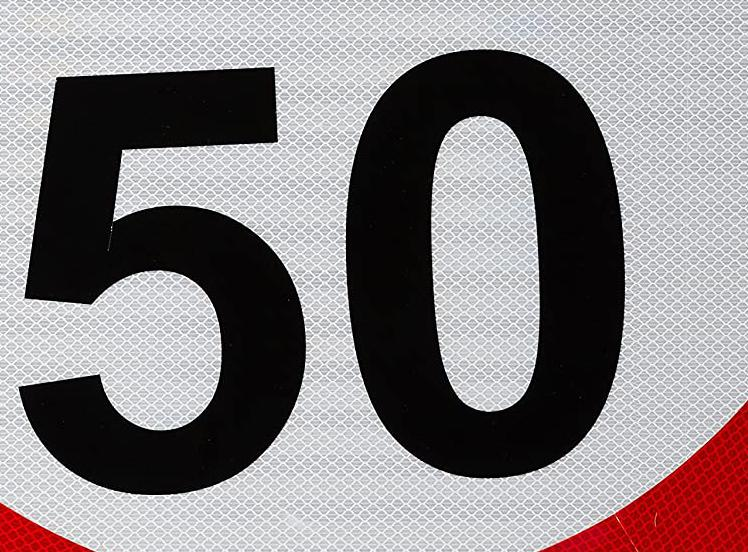Speed Limit -50-: (0, 1, 747, 551)
